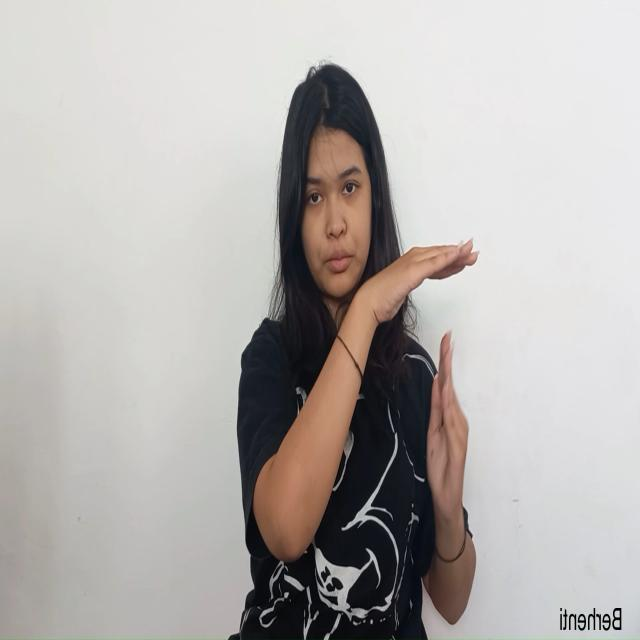Berhenti -BISINDO-: (362, 234, 482, 535)
